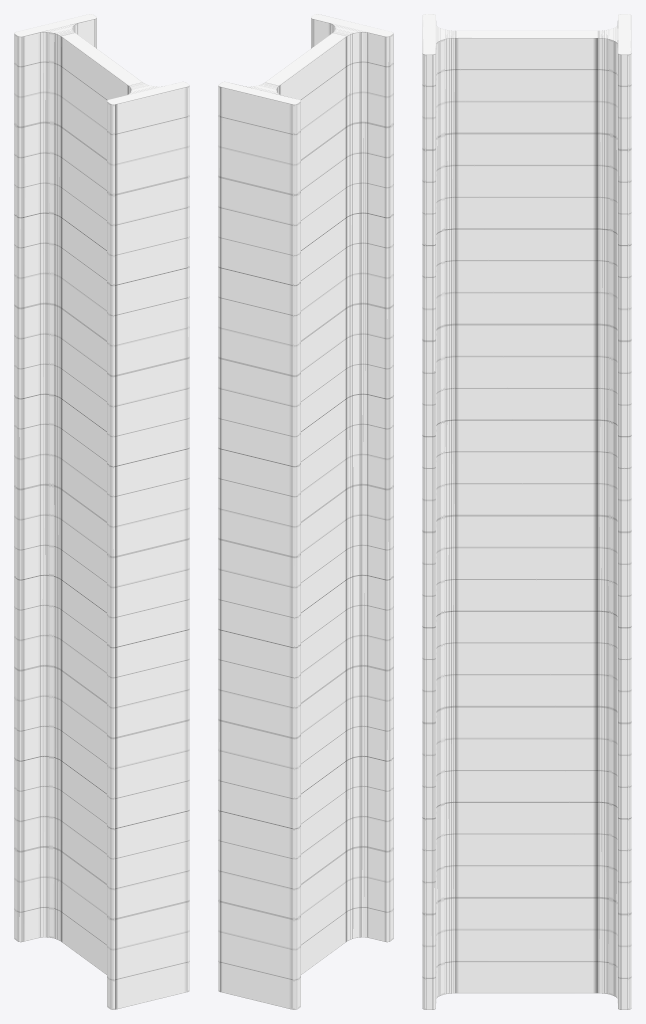
Rendered from Metals.glb.
3 renders of one model, left to right at view 1: azimuth 30°, elevation 25°; view 2: azimuth 150°, elevation 25°; view 3: azimuth 270°, elevation 25°, orthographic. The views are drawn at different scales.
Parts seen in each view (by area): view 1: metal; view 2: metal; view 3: metal.
Part boxes in pixels (bbox=[...]): metal: bbox=[14, 14, 189, 1009]; metal: bbox=[218, 14, 393, 1009]; metal: bbox=[422, 14, 631, 1009].
Size of the model in its own units: 0.8799 by 9.65 by 1.91.
Materials: 1 (1 with a texture image).
